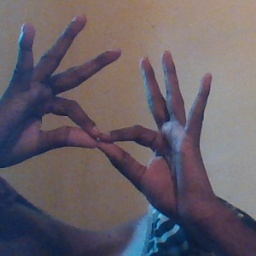B: (21, 80, 170, 183)
